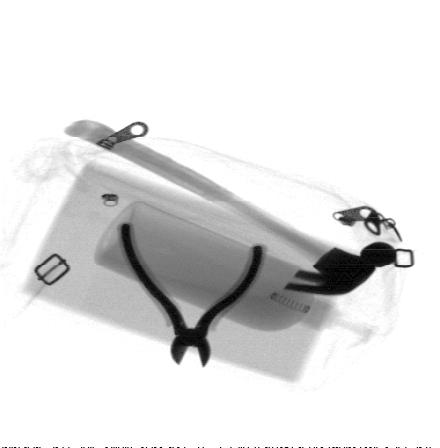Hammer: (63, 119, 397, 297)
Pliers: (116, 222, 269, 369)
